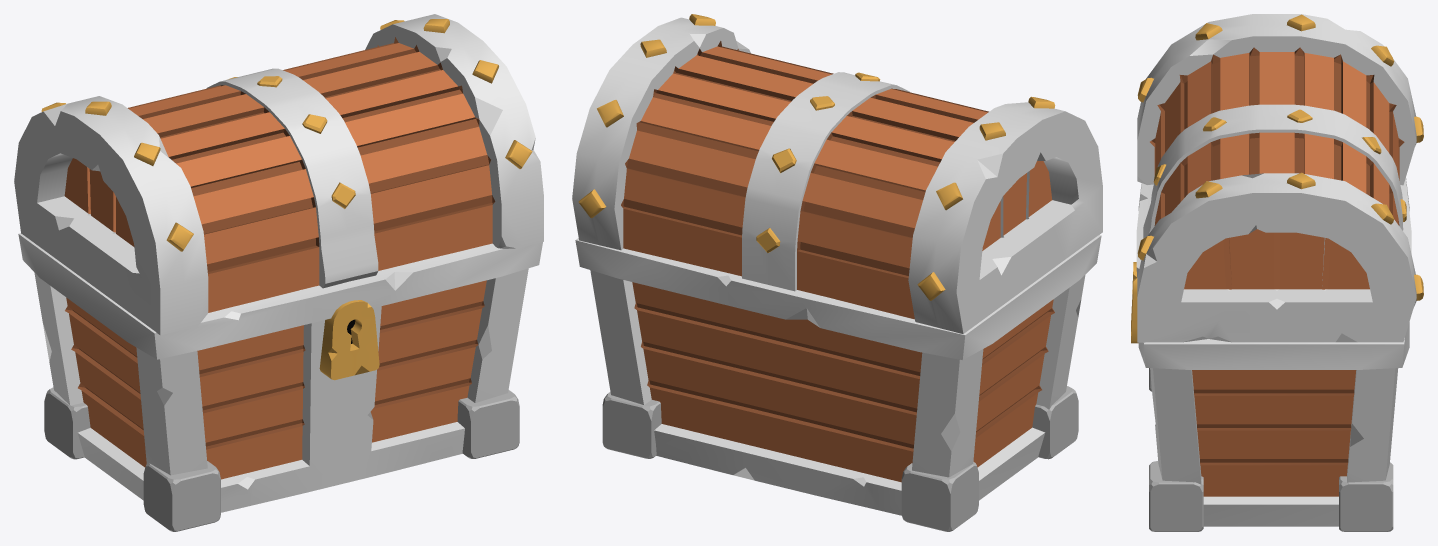
File: TreasureChest.2024.07.04.fbx
The picture shows the model from 3 angles, left to right: view 1: azimuth 30°, elevation 25°; view 2: azimuth 150°, elevation 25°; view 3: azimuth 270°, elevation 25°; orthographic projection. The views are drawn at different scales.
Parts seen in each view (by area): view 1: Cube.006, Cube; view 2: Cube.006, Cube; view 3: Cube.006, Cube.
Part boxes in pixels (x1,y1,x2,y2): Cube.006: (14, 14, 543, 335); Cube: (18, 233, 542, 531); Cube.006: (572, 14, 1102, 334); Cube: (575, 235, 1101, 531); Cube.006: (1137, 14, 1423, 342); Cube: (1131, 178, 1411, 531).
Bounding box in the file's own units: 254 × 228 × 171.
